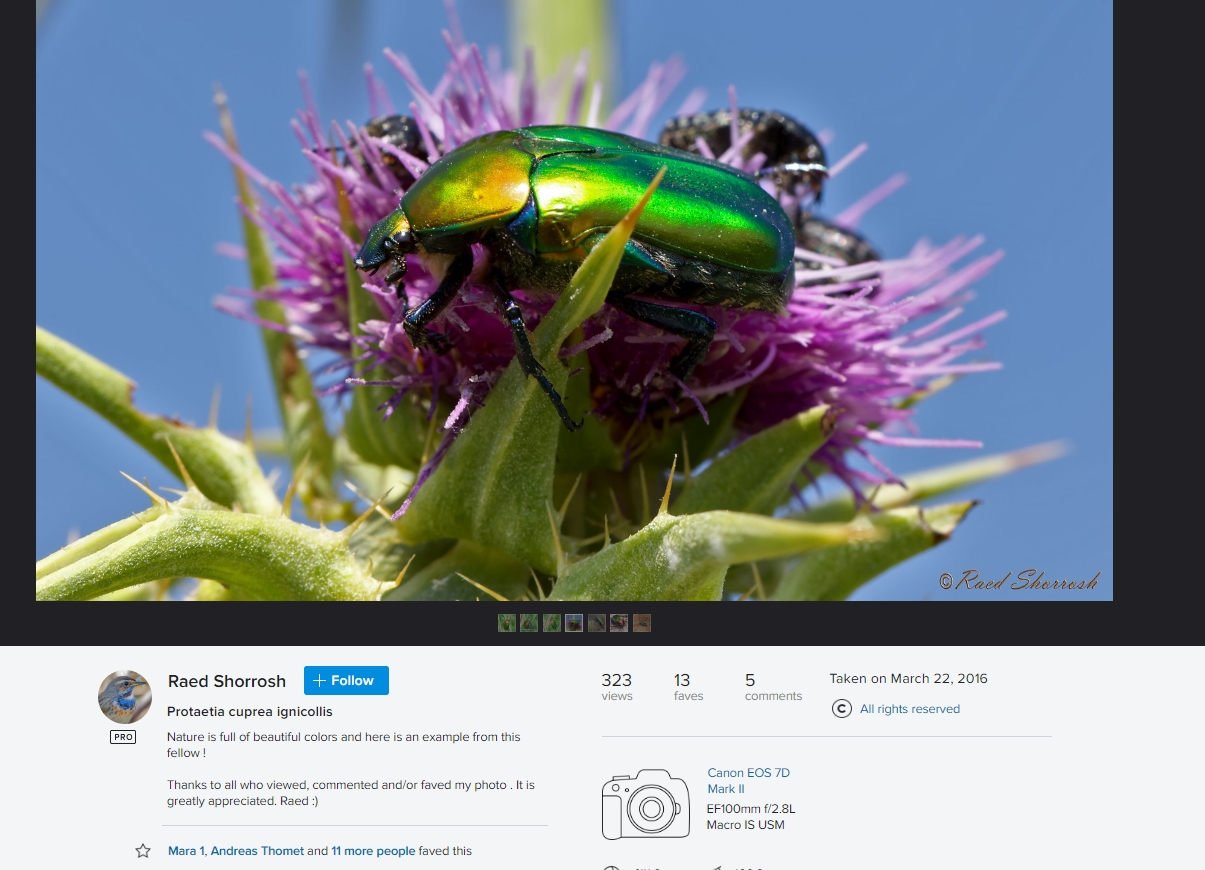Protaetia_cuprea_ignicollis: (347, 118, 804, 446)
